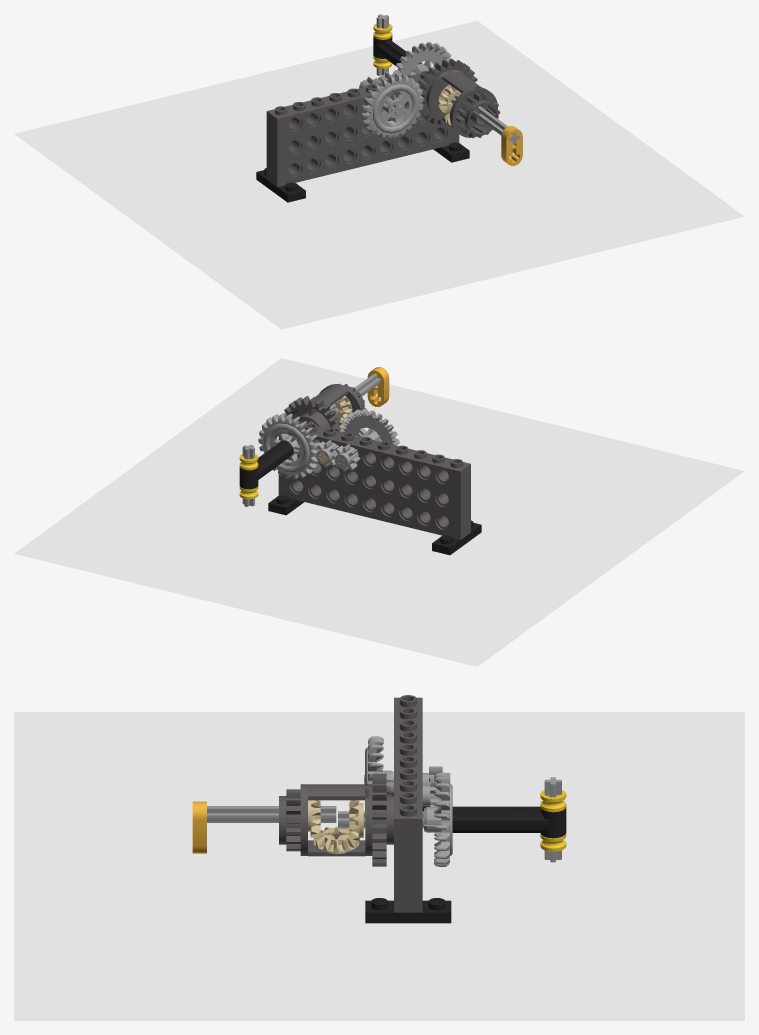
Rendered from animation_diff7.glb.
3 views of the same model, one above another, from view 1: azimuth 30°, elevation 25°; view 2: azimuth 150°, elevation 25°; view 3: azimuth 270°, elevation 25° (orthographic). The views are drawn at different scales.
Parts seen in each view (by area): view 1: LegoGroundPlane, 00009_2730.dat, diff, 00002_2730.dat, roue3, roue1, 00001_2730.dat, roue4, 00011_3623.dat; view 2: LegoGroundPlane, 00002_2730.dat, 00009_2730.dat, roue1, 00001_2730.dat, diff, roue3, roue4, 00011_3623.dat; view 3: LegoGroundPlane, roue1, diff, 00002_2730.dat, roue4, 00010_3623.dat, roue3, 00001_2730.dat, 00009_2730.dat.
Part boxes in pixels (x1=…): LegoGroundPlane: x1=14, y1=20, x2=744, y2=329; 00009_2730.dat: x1=266, y1=123, x2=459, y2=187; diff: x1=418, y1=58, x2=500, y2=138; 00002_2730.dat: x1=266, y1=70, x2=429, y2=141; roue3: x1=359, y1=73, x2=423, y2=139; roue1: x1=373, y1=14, x2=461, y2=114; 00001_2730.dat: x1=266, y1=114, x2=445, y2=164; roue4: x1=473, y1=106, x2=522, y2=165; 00011_3623.dat: x1=256, y1=168, x2=305, y2=202; LegoGroundPlane: x1=14, y1=358, x2=744, y2=666; 00002_2730.dat: x1=278, y1=419, x2=470, y2=494; 00009_2730.dat: x1=278, y1=474, x2=470, y2=539; roue1: x1=239, y1=413, x2=319, y2=506; 00001_2730.dat: x1=284, y1=454, x2=470, y2=516; diff: x1=284, y1=383, x2=366, y2=431; roue3: x1=334, y1=409, x2=399, y2=471; roue4: x1=330, y1=367, x2=389, y2=423; 00011_3623.dat: x1=432, y1=520, x2=481, y2=555; LegoGroundPlane: x1=14, y1=712, x2=744, y2=1020; roue1: x1=338, y1=772, x2=566, y2=866; diff: x1=279, y1=773, x2=393, y2=866; 00002_2730.dat: x1=394, y1=695, x2=422, y2=850; roue4: x1=192, y1=800, x2=336, y2=853; 00010_3623.dat: x1=365, y1=898, x2=451, y2=923; roue3: x1=364, y1=736, x2=450, y2=810; 00001_2730.dat: x1=394, y1=850, x2=422, y2=881; 00009_2730.dat: x1=394, y1=881, x2=422, y2=912.
Size of the model in its own units: 0.2037 by 0.0413 by 0.2037.
